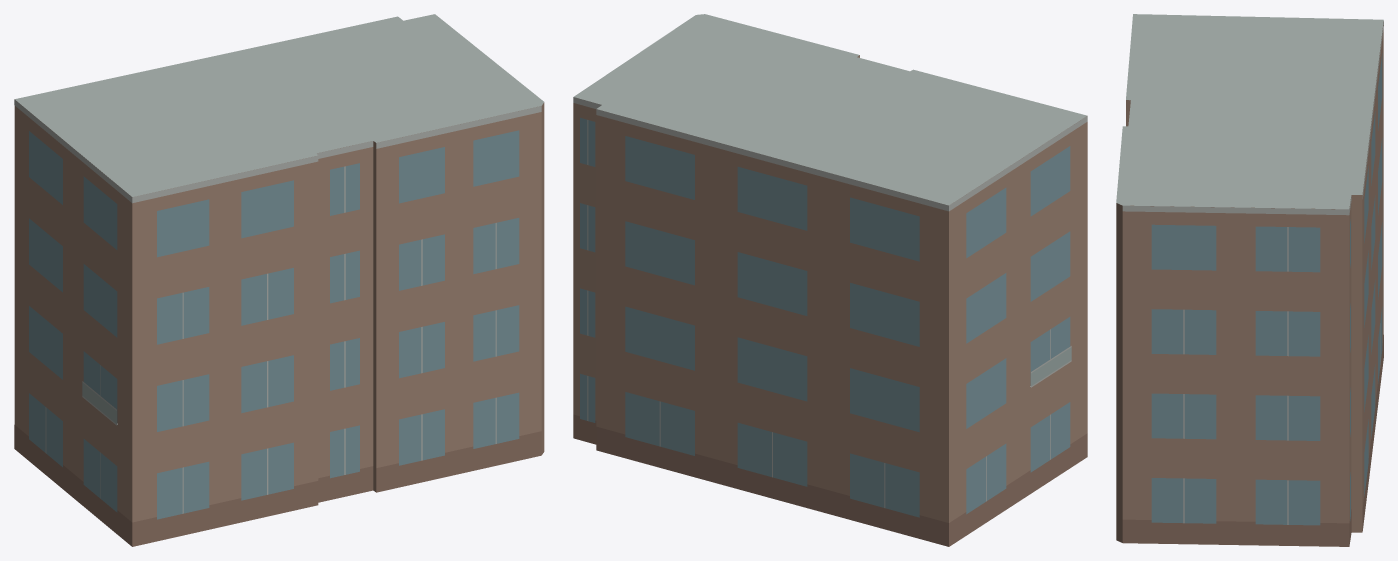
The model's file is survey-upis-32654385.glb.
The picture shows the model from 3 angles, left to right: view 1: azimuth 30°, elevation 25°; view 2: azimuth 150°, elevation 25°; view 3: azimuth 270°, elevation 25°; orthographic projection. The views are drawn at different scales.
Visible parts, largest first — view 1: survey-upis-32654385.tmp; view 2: survey-upis-32654385.tmp; view 3: survey-upis-32654385.tmp.
Part boxes in pixels (left/top/right/bottom): survey-upis-32654385.tmp: left=14, top=14, right=544, bottom=546; survey-upis-32654385.tmp: left=573, top=14, right=1087, bottom=546; survey-upis-32654385.tmp: left=1116, top=14, right=1383, bottom=546.
Bounding box in the file's own units: 17.5 × 14.09 × 10.14.
